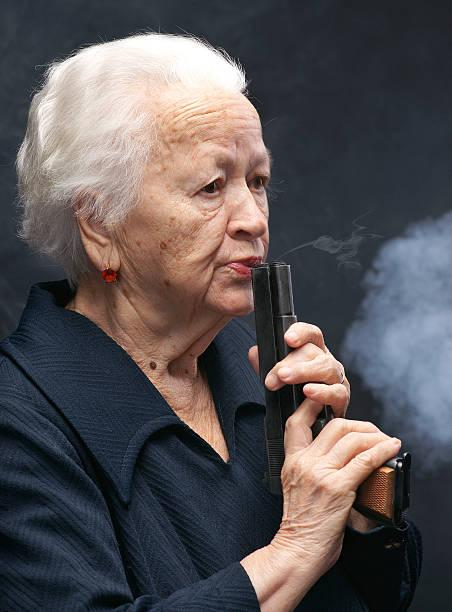weapon: (240, 256, 421, 525)
